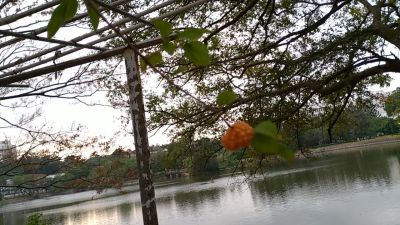eggs: (220, 120, 256, 153)
